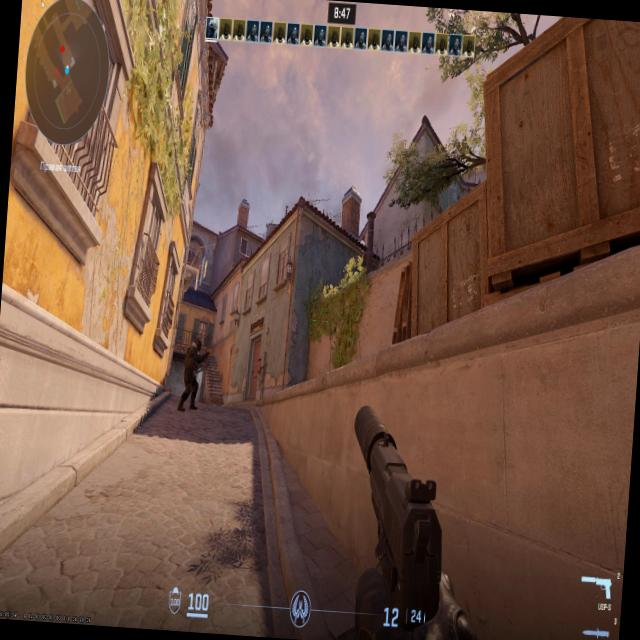CT: (182, 332, 204, 412)
CT_heat: (191, 342, 200, 356)
